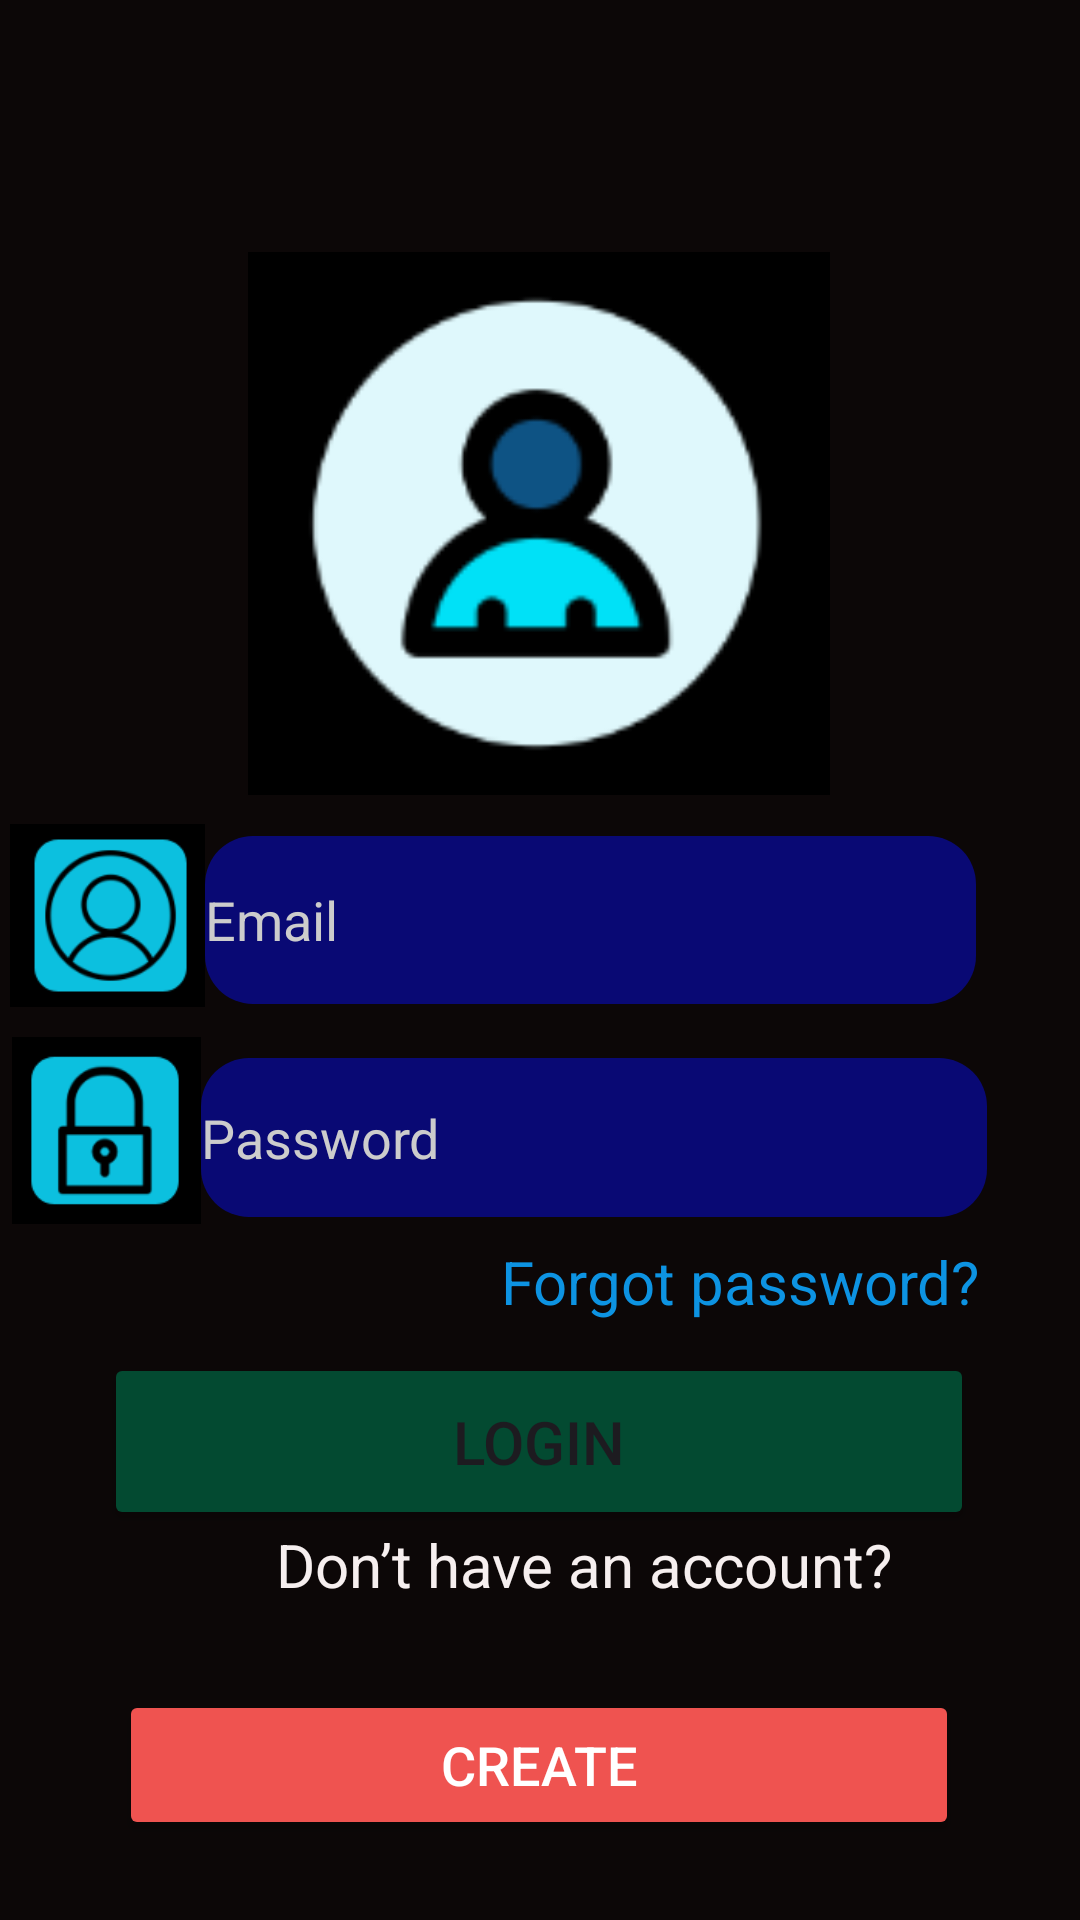

Named icons in this screenshot (1080w x 1920h) and their bounding boxes, (x1, y1, x2, y2):
foto user: (34, 839, 187, 992)
